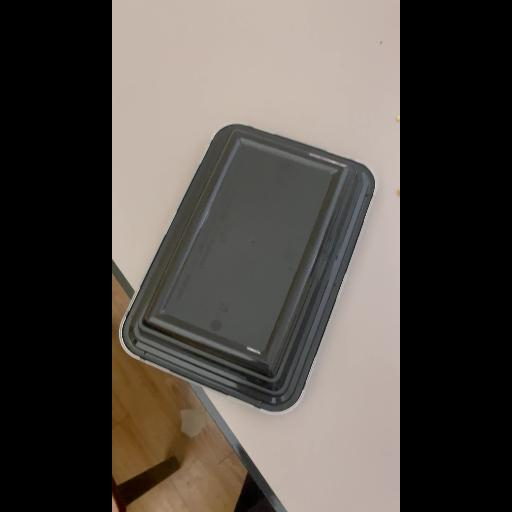rigid_plastic_container: (112, 116, 374, 424)
